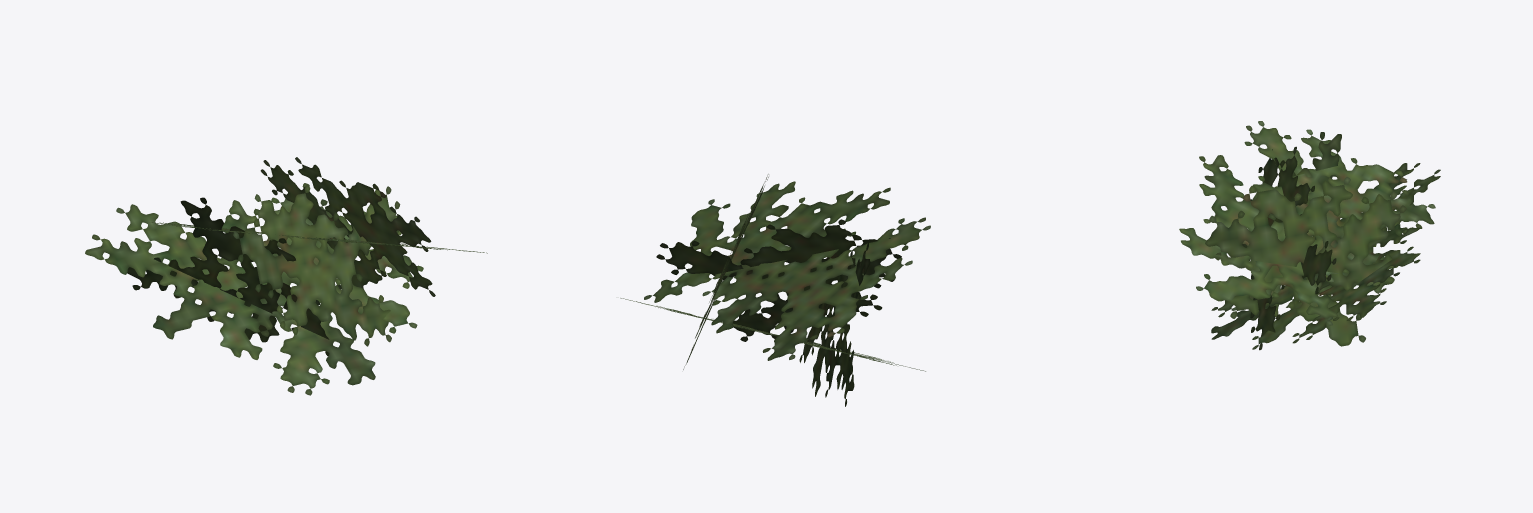
The model's file is pine_leaves_dark_slab.obj.
The picture shows the model from 3 angles, left to right: view 1: azimuth 30°, elevation 25°; view 2: azimuth 150°, elevation 25°; view 3: azimuth 270°, elevation 25°; orthographic projection. The views are drawn at different scales.
Parts seen in each view (by area): view 1: plane; view 2: plane; view 3: plane.
Part boxes in pixels (left/top/right/bottom): plane: left=85, top=157, right=487, bottom=395; plane: left=620, top=174, right=930, bottom=406; plane: left=1179, top=121, right=1440, bottom=350.
Size of the model in its own units: 2.11 by 2.18 by 1.98.
